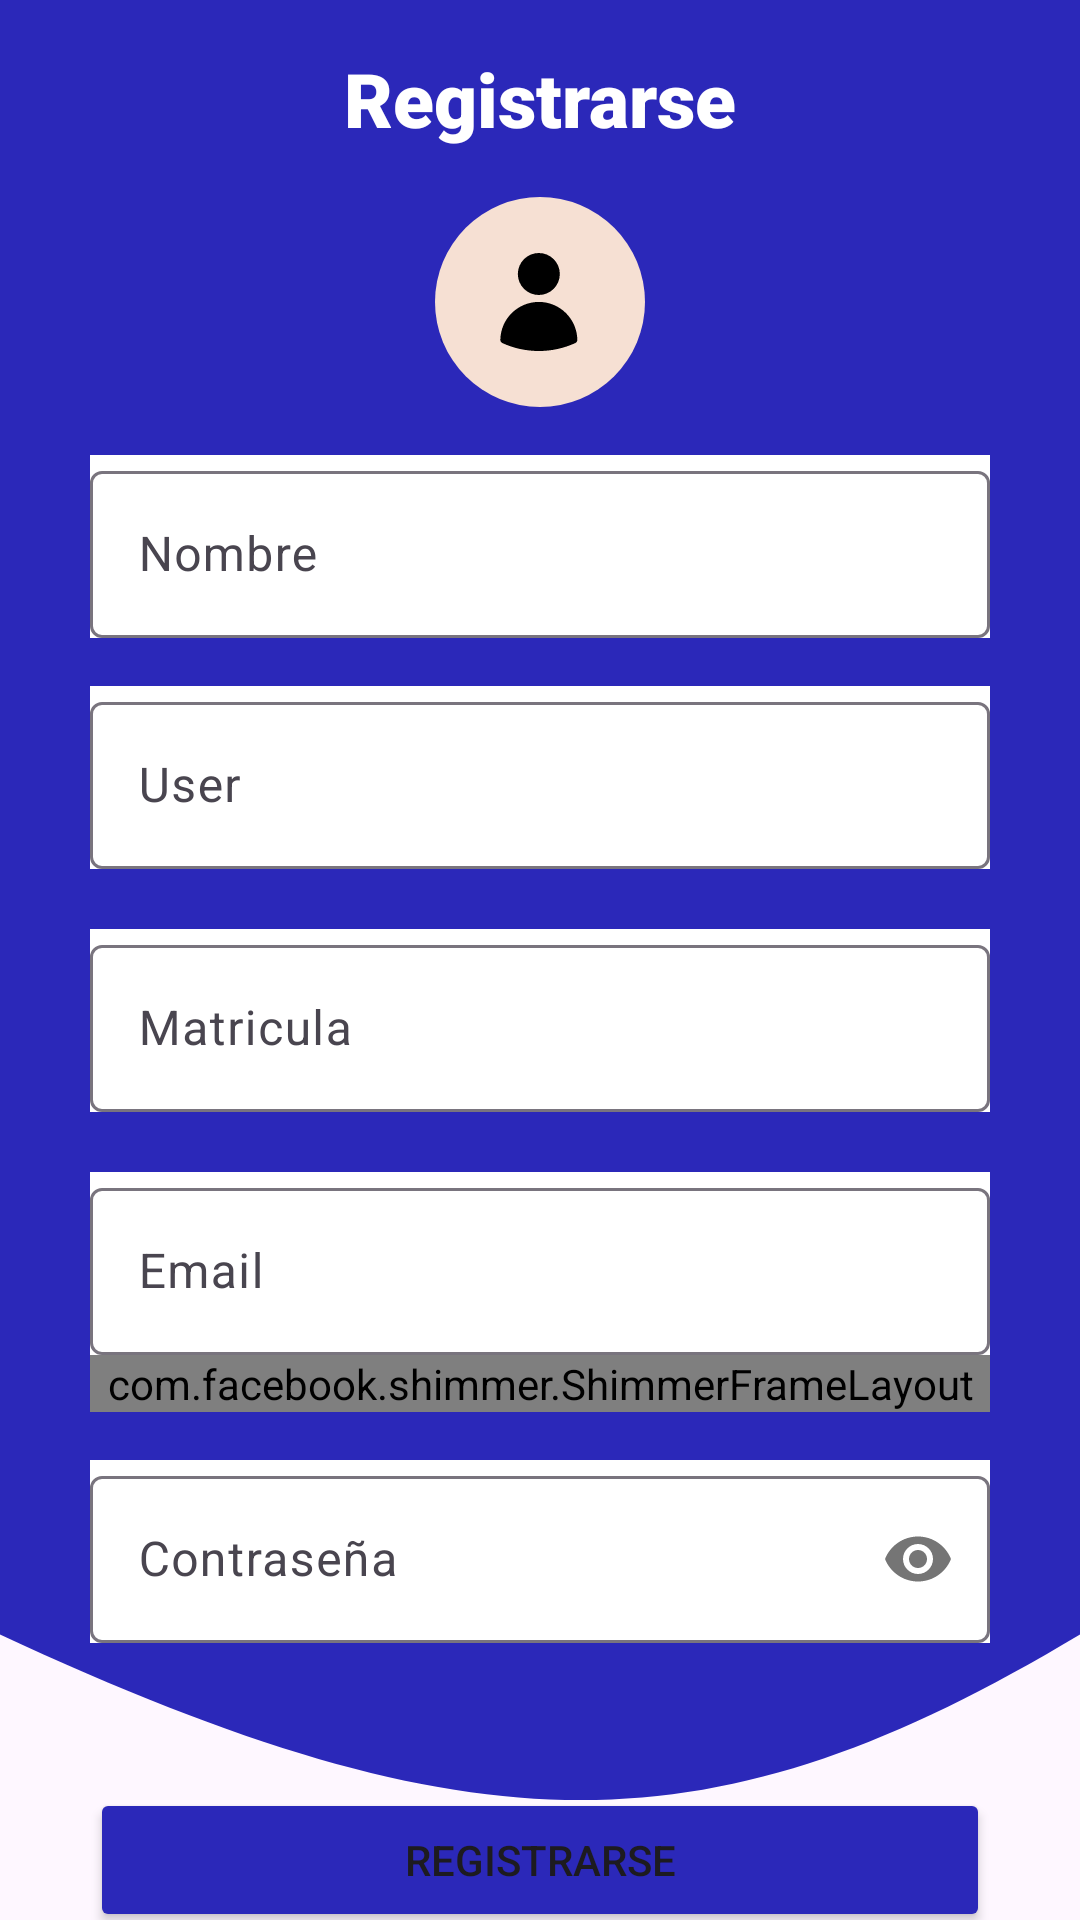

Screen size 1080 x 1920. Icon name, then its center in pixels as point (x, y):
userlog: point (540, 302)
